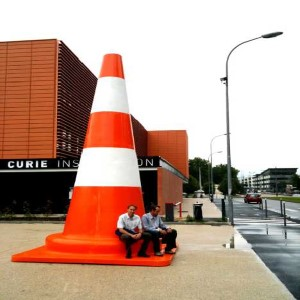traffic cone: (10, 53, 178, 266)
